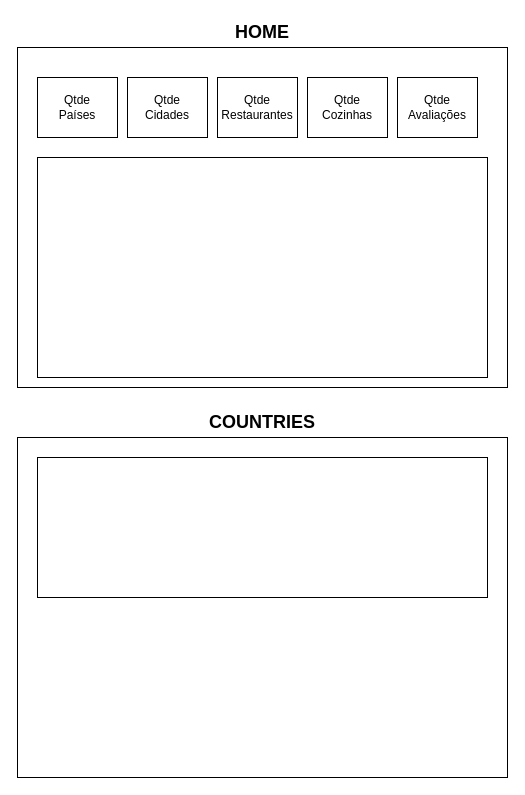
Some shapes in this 525 by 795 pixel diagram are drawn without their labels. The shapes that lost their labels are listed below. From the top down, each one's centre as x and y in pixels, then its label:
At (262,267): "Mapa".
At (262,527): "Analisar País por = CIDADES, RESTAURANTES, CULINÁRIAS".
